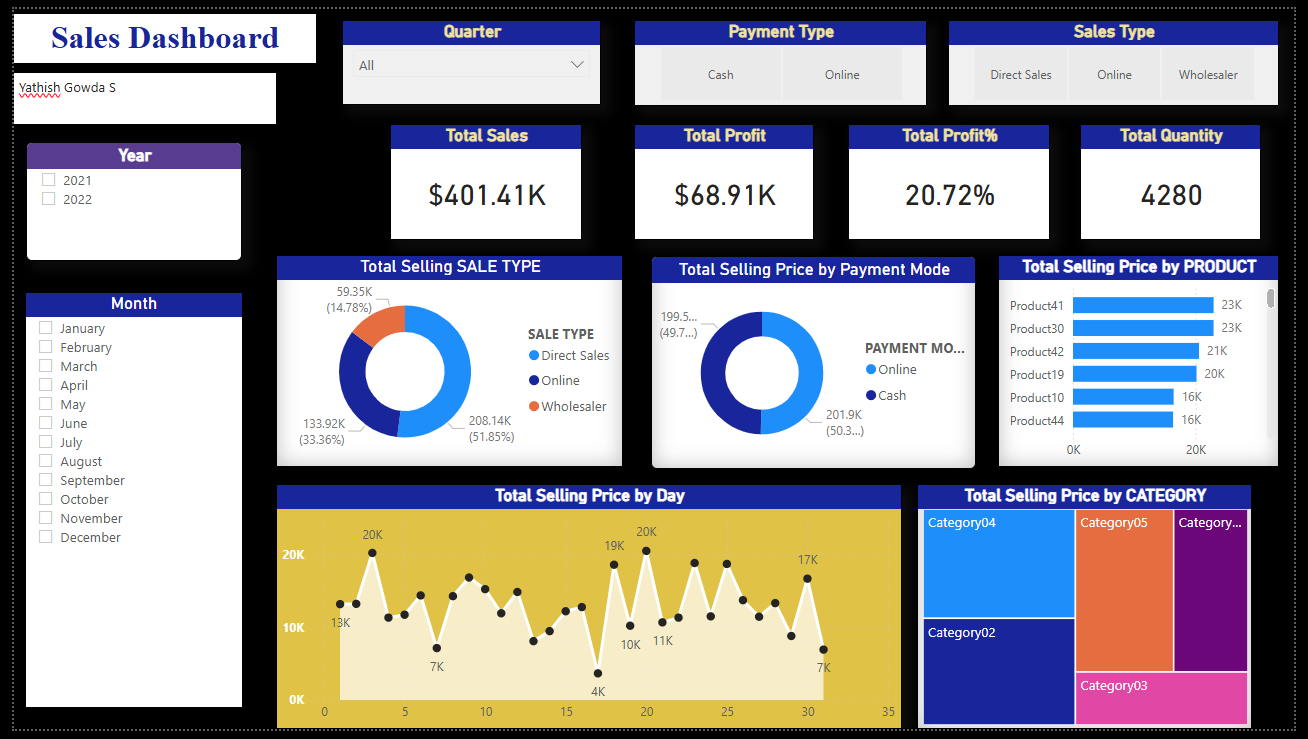

Layout of this report page (visuals, bound fields, positions):
{"tool":"powerbi","page":{"name":"Page 1","canvas":[1280,720],"ordinal":0},"visuals":[{"type":"card","title":"Total Sales ","fields":{"Values":["input data.Total Sales"]},"box":[376,115.3,192.1,115.3],"z":0},{"type":"card","title":"Total Profit ","fields":{"Values":["input data.Total Profit"]},"box":[620.2,115.3,179.8,115.3],"z":1000},{"type":"card","title":"Total Profit%","fields":{"Values":["input data.Profit %"]},"box":[834.3,115.3,201.7,115.3],"z":2000},{"type":"card","title":"Total Quantity","fields":{"Values":["input data.Total Quantity"]},"box":[1066.2,115.3,181.1,115.3],"z":3000},{"type":"slicer","title":"Quarter","fields":{"Values":["input data.DATE"]},"box":[328,11,259.3,85.1],"z":4000},{"type":"slicer","title":"Payment Type ","fields":{"Values":["input data.PAYMENT MODE"]},"box":[620.2,11,292.3,86.4],"z":5000},{"type":"slicer","title":"Sales Type","fields":{"Values":["input data.SELLING TYPE"]},"box":[934.5,11,330.7,86.4],"z":6000},{"type":"slicer","title":"Year ","fields":{"Values":["input data.DATE.Variation.Date Hierarchy.Year"]},"box":[12.3,133.1,215.4,119.4],"z":7000},{"type":"slicer","title":"Month","fields":{"Values":["input data.DATE.Variation.Date Hierarchy.Month"]},"box":[12.3,284,215.4,414.4],"z":8000},{"type":"donutChart","title":"Total Selling SALE TYPE","fields":{"Y":["Sum(input data.Total Selling Price)"],"Category":["input data.SELLING TYPE"]},"box":[262.1,245.6,347.2,212.7],"z":9000},{"type":"donutChart","title":"Total Selling Price by Payment Mode","fields":{"Y":["Sum(input data.Total Selling Price)"],"Category":["input data.PAYMENT MODE"]},"box":[636.7,247,325.2,212.7],"z":10000},{"type":"clusteredBarChart","title":"Total Selling Price by PRODUCT","fields":{"Y":["Sum(input data.Total Selling Price)"],"Category":["input data.PRODUCT"]},"box":[983.9,245.6,281.3,212.7],"z":11000},{"type":"areaChart","title":"Total Selling Price by Day","fields":{"Y":["Sum(input data.Total Selling Price)"],"Category":["input data.DATE.Variation.Date Hierarchy.Day"]},"box":[262.1,474.8,625.7,245.6],"z":12000},{"type":"treemap","title":"Total Selling Price by CATEGORY","fields":{"Values":["Sum(input data.Total Selling Price)"],"Group":["input data.CATEGORY"]},"box":[902.9,474.8,334.8,245.6],"z":13000},{"type":"textbox","box":[0,5.5,301.9,48],"z":14000},{"type":"textbox","box":[0,64.5,262.1,50.8],"z":15000}]}

Visuals, with their boxes in screenshot pixels (x1, y1, x2, y2), scaled from the page's 1280x720 canvas onto the 1308x739 screenshot:
"Total Sales " card: 384 118 581 237
"Total Profit " card: 634 118 818 237
"Total Profit%" card: 853 118 1059 237
"Total Quantity" card: 1090 118 1275 237
"Quarter" slicer: 335 11 600 99
"Payment Type " slicer: 634 11 932 100
"Sales Type" slicer: 955 11 1293 100
"Year " slicer: 13 137 233 259
"Month" slicer: 13 291 233 717
"Total Selling SALE TYPE" donutChart: 268 252 623 470
"Total Selling Price by Payment Mode" donutChart: 651 254 983 472
"Total Selling Price by PRODUCT" clusteredBarChart: 1005 252 1293 470
"Total Selling Price by Day" areaChart: 268 487 907 738
"Total Selling Price by CATEGORY" treemap: 923 487 1265 738
textbox: 0 6 309 55
textbox: 0 66 268 118
